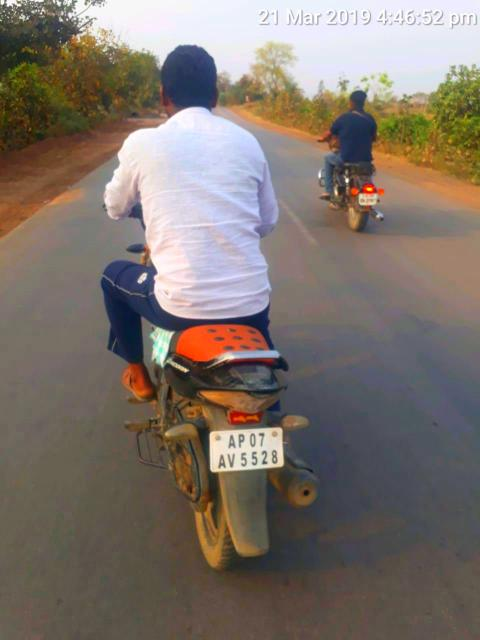motor: (99, 197, 325, 579), (317, 137, 387, 236)
non-helm: (158, 42, 222, 116), (349, 92, 369, 114)
